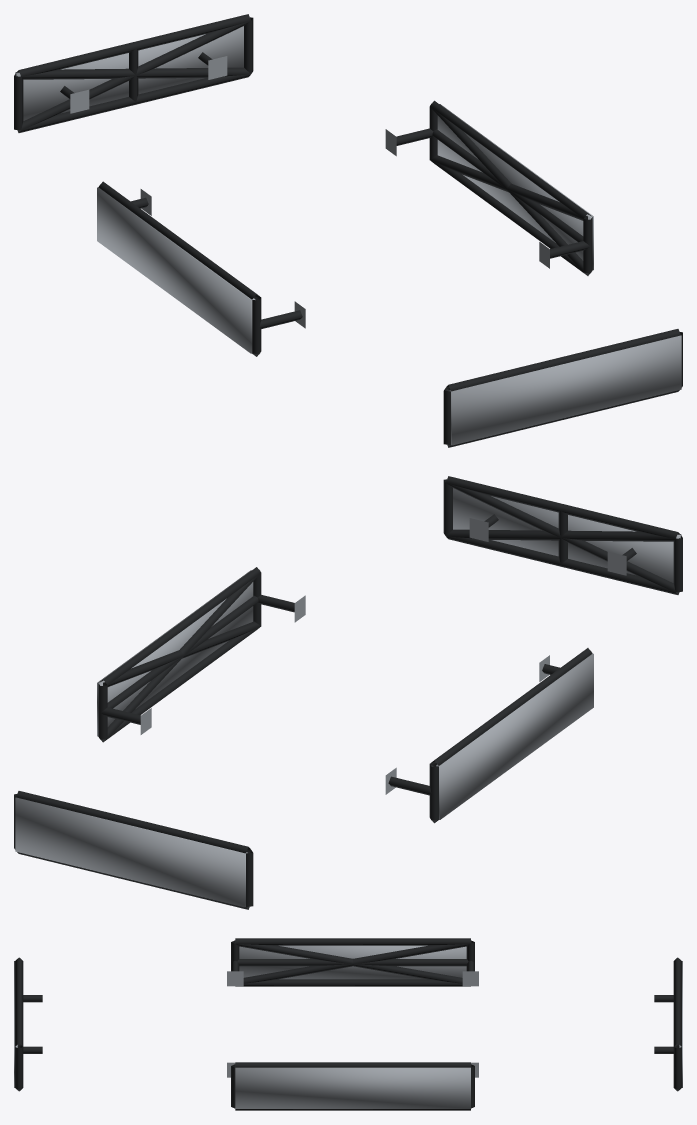
File: ostwerk_barrao_protecao.glb
3 views of the same model, one above another, from view 1: azimuth 30°, elevation 25°; view 2: azimuth 150°, elevation 25°; view 3: azimuth 270°, elevation 25° (orthographic). The views are drawn at different scales.
Parts seen in each view (by area): view 1: Protection_front_Level3_Details, Protection_left_Level3_Details, Protection_rear_Level1_Details, Protection_rear_Level3_Details, Protection_right_Level1_Details, Protection_rear_Level2_Details, Protection_right_Level2_Details, Protection_right_Level3_Details, Protection_left_Level1_Details, Protection_front_Level1_Details; view 2: Protection_rear_Level3_Details, Protection_left_Level3_Details, Protection_front_Level1_Details, Protection_front_Level3_Details, Protection_right_Level1_Details, Protection_front_Level2_Details, Protection_right_Level2_Details, Protection_right_Level3_Details, Protection_left_Level1_Details, Protection_rear_Level1_Details; view 3: Protection_right_Level3_Details, Protection_left_Level2_Details, Protection_left_Level1_Details, Protection_left_Level3_Details, Protection_right_Level1_Details, Protection_rear_Level1_Details, Protection_front_Level1_Details.
Part boxes in pixels (x1,y1,x2,y2): Protection_front_Level3_Details: (449,335,681,445); Protection_left_Level3_Details: (97,187,255,353); Protection_rear_Level1_Details: (14,14,253,132); Protection_rear_Level3_Details: (15,26,243,120); Protection_right_Level1_Details: (385,100,592,275); Protection_rear_Level2_Details: (16,21,250,132); Protection_right_Level2_Details: (430,107,591,275); Protection_right_Level3_Details: (437,104,593,270); Protection_left_Level1_Details: (98,181,305,356); Protection_front_Level1_Details: (443,329,682,447); Protection_rear_Level3_Details: (15,797,247,907); Protection_left_Level3_Details: (436,653,593,819); Protection_front_Level1_Details: (443,476,682,594); Protection_front_Level3_Details: (453,488,681,582); Protection_right_Level1_Details: (98,567,305,742); Protection_front_Level2_Details: (446,483,680,594); Protection_right_Level2_Details: (99,573,260,741); Protection_right_Level3_Details: (97,570,253,736); Protection_left_Level1_Details: (385,648,592,823); Protection_rear_Level1_Details: (14,791,253,909); Protection_right_Level3_Details: (235,1067,470,1108); Protection_left_Level2_Details: (234,941,471,983); Protection_left_Level1_Details: (227,938,478,986); Protection_left_Level3_Details: (239,945,466,979); Protection_right_Level1_Details: (227,1062,478,1110); Protection_rear_Level1_Details: (654,957,681,1091); Protection_front_Level1_Details: (15,957,42,1091).
Size of the model in its own units: 2.01 by 0.354 by 4.43.
Materials: 1 (1 with a texture image).
